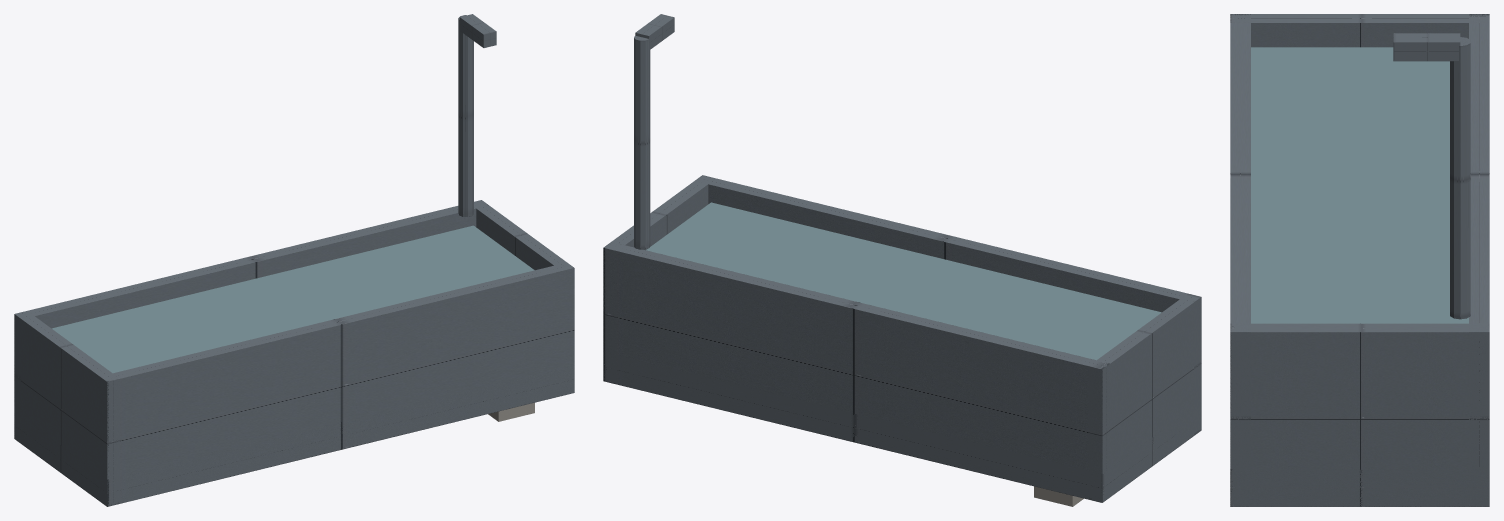
The model's file is farm-and-working-animals-hd-water-trough-b6c599b6__29217.glb.
3 renders of one model, left to right at view 1: azimuth 30°, elevation 25°; view 2: azimuth 150°, elevation 25°; view 3: azimuth 270°, elevation 25°, orthographic. The views are drawn at different scales.
Visible parts, largest first — view 1: water-trough; view 2: water-trough; view 3: water-trough.
Part boxes in pixels (x1=…): water-trough: x1=14, y1=14, x2=574, y2=506; water-trough: x1=603, y1=14, x2=1201, y2=506; water-trough: x1=1230, y1=14, x2=1489, y2=506.
Bounding box in the file's own units: 1.8 × 1.25 × 0.6199.
3 materials, 2 textured.
